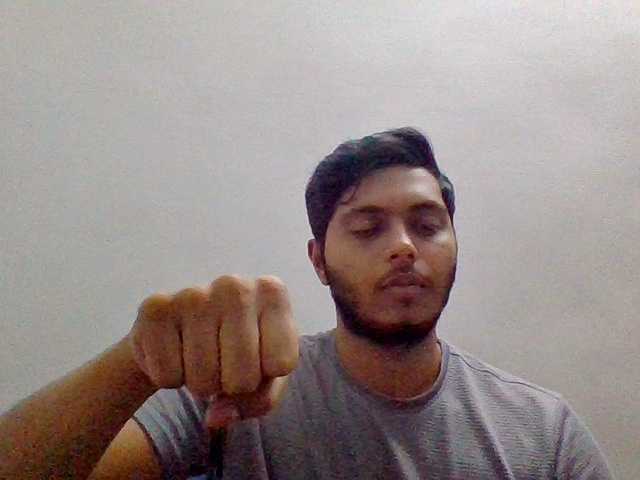Yes: (122, 270, 312, 431)
